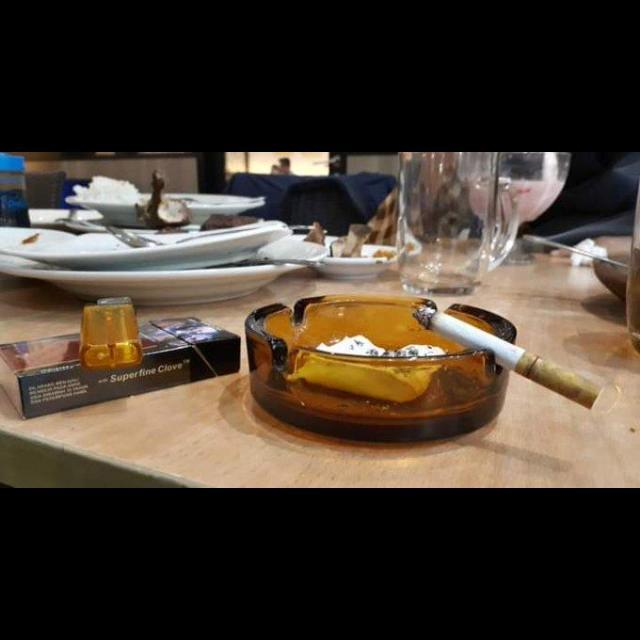rokok: (412, 300, 608, 416)
